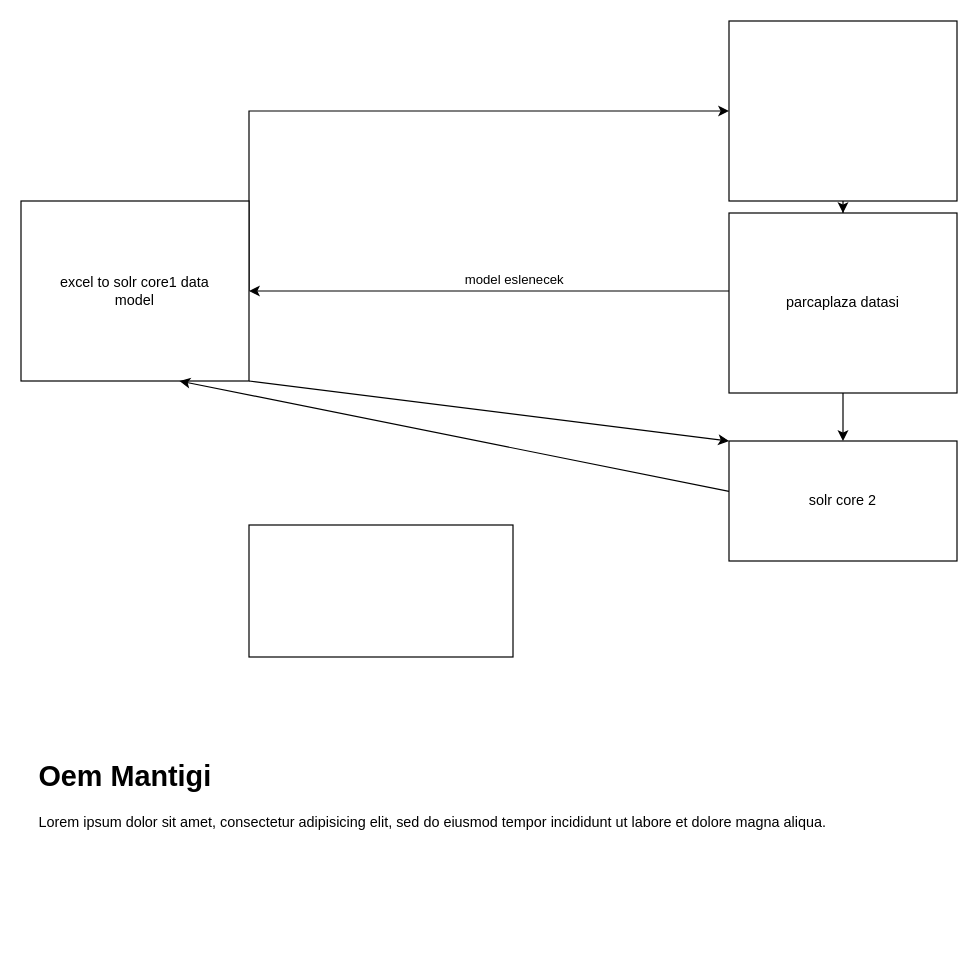
This 978x954 diagram has some shape labels left out. Here are the shapes that lost their labels. From the top down, the box of each, then its label:
(728, 20, 957, 201): Oems Tablosu
(248, 524, 513, 657): esitlenmis son data
